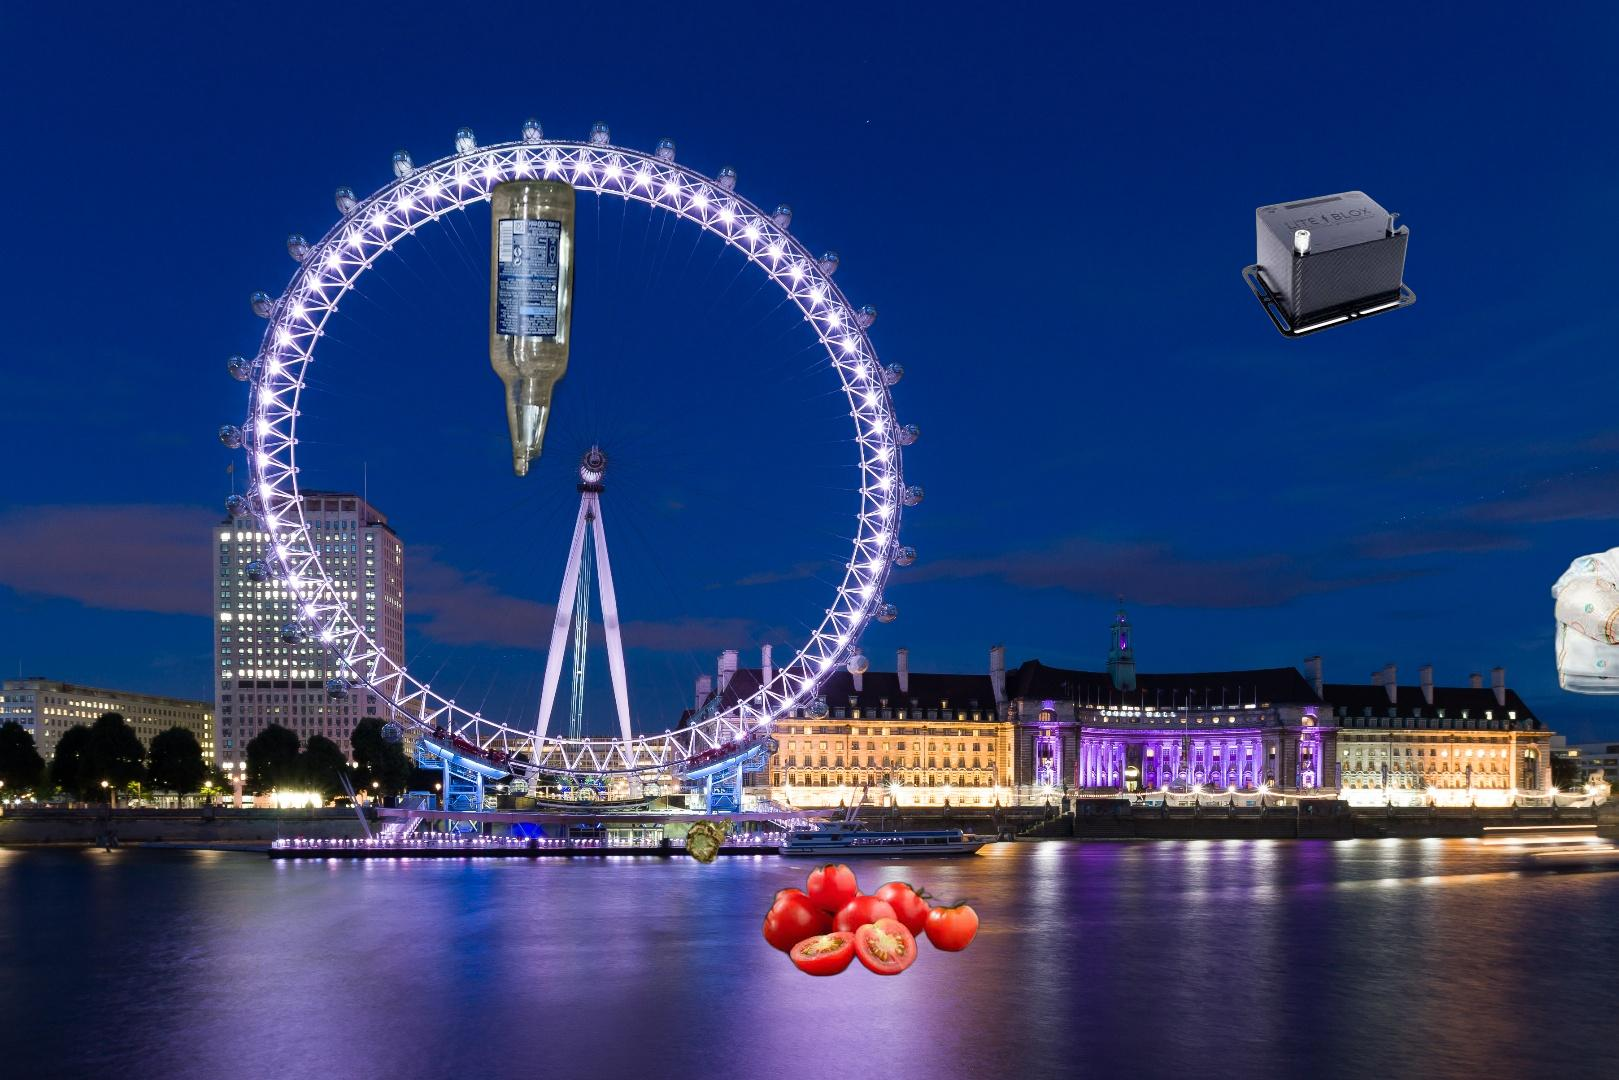battery: (1239, 188, 1448, 372)
biological: (750, 856, 985, 979), (684, 815, 735, 867)
glass: (483, 172, 581, 483)
trash: (1548, 542, 1619, 698)
